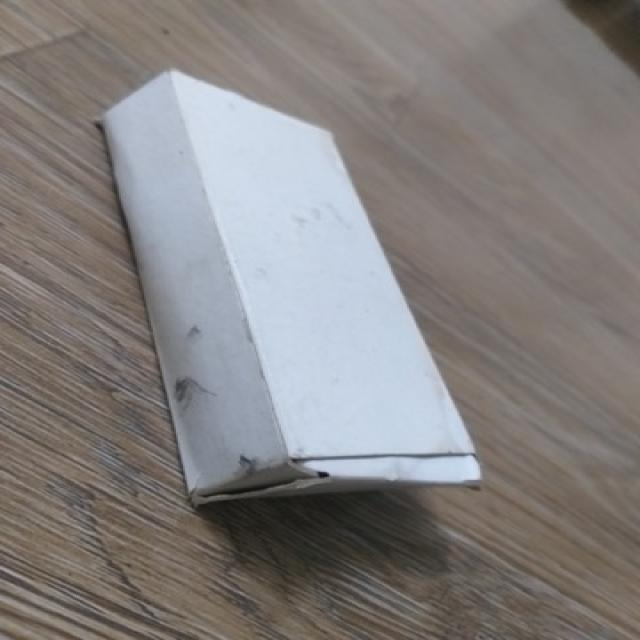PaperCardboard: (96, 70, 496, 522)
